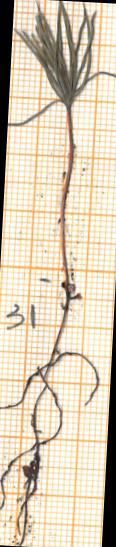flower: (8, 1, 97, 126)
root: (0, 286, 99, 545)
stem: (60, 108, 73, 290)
